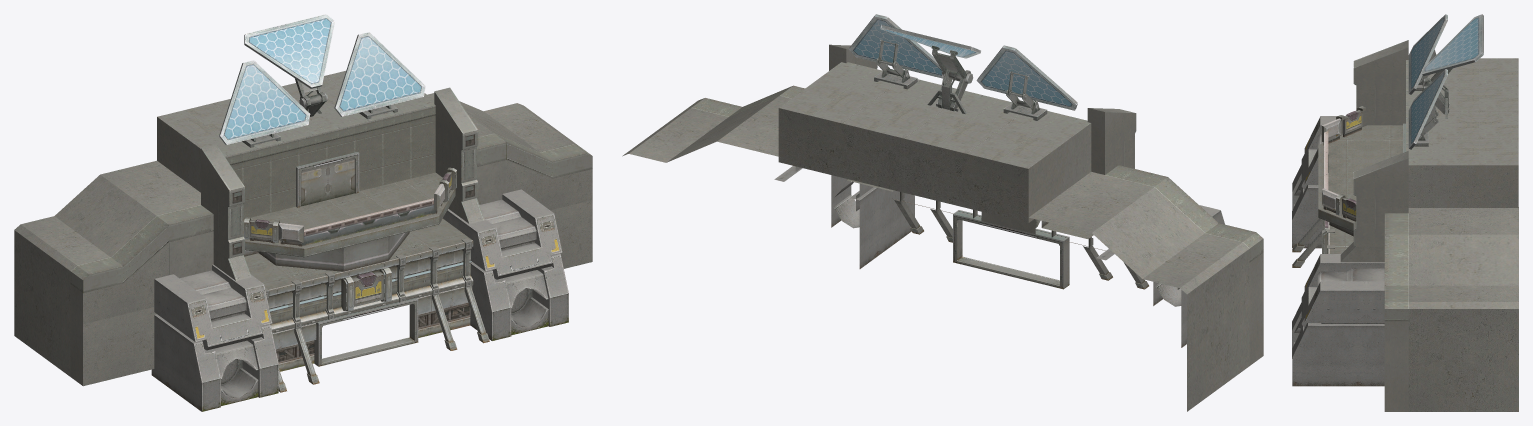
The model's file is Building_Mainexit01.glb.
The picture shows the model from 3 angles, left to right: view 1: azimuth 30°, elevation 25°; view 2: azimuth 150°, elevation 25°; view 3: azimuth 270°, elevation 25°; orthographic projection. The views are drawn at different scales.
Parts seen in each view (by area): view 1: xiutz_mainexit_01; view 2: xiutz_mainexit_01; view 3: xiutz_mainexit_01.
Part boxes in pixels (bbox=[...]): xiutz_mainexit_01: bbox=[14, 14, 592, 411]; xiutz_mainexit_01: bbox=[622, 14, 1263, 411]; xiutz_mainexit_01: bbox=[1292, 14, 1518, 411].
Bounding box in the file's own units: 62.75 × 32.01 × 24.83.
1 material, 1 textured.
